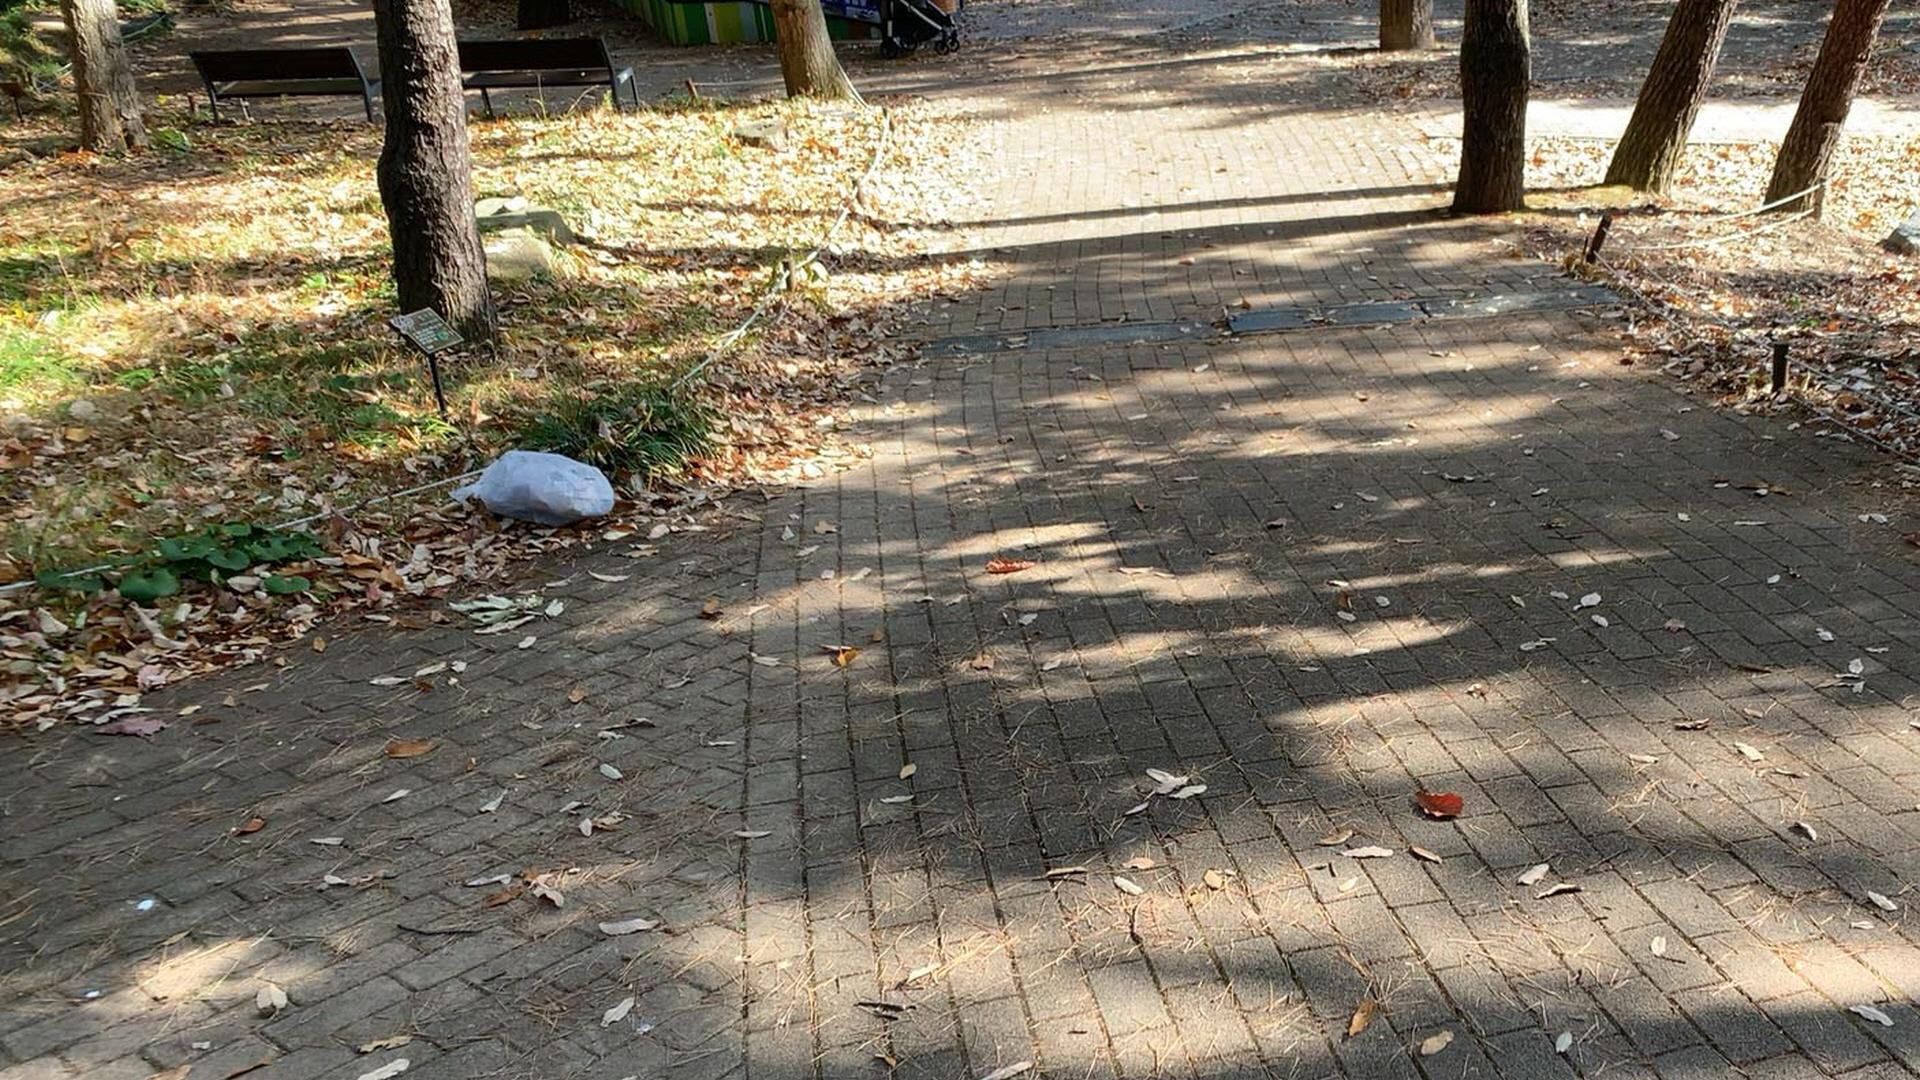white_bag: (452, 444, 622, 538)
